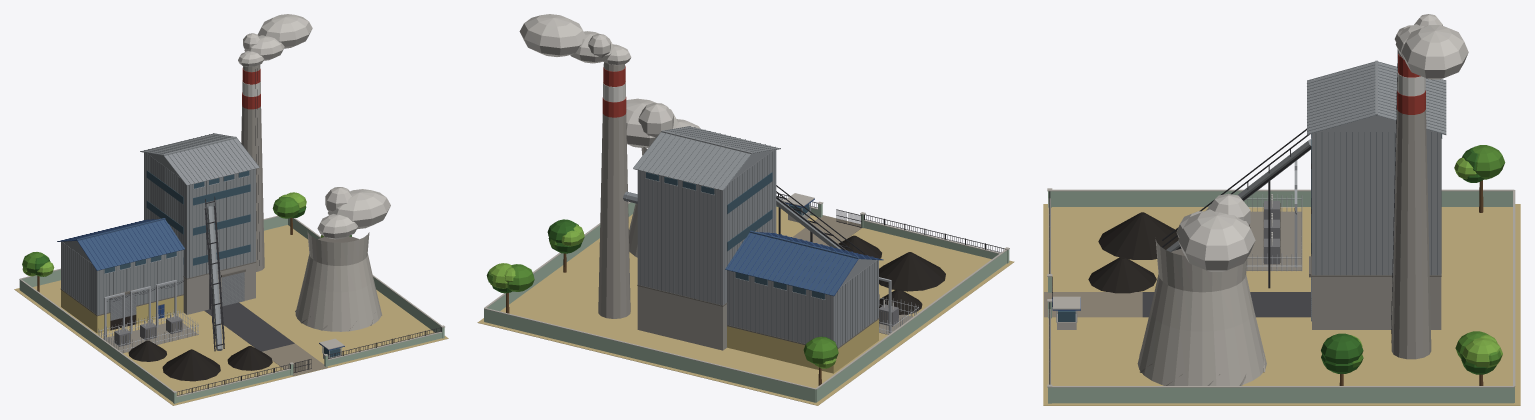
The model's file is power_plant.glb.
The picture shows the model from 3 angles, left to right: view 1: azimuth 30°, elevation 25°; view 2: azimuth 150°, elevation 25°; view 3: azimuth 270°, elevation 25°; orthographic projection. The views are drawn at different scales.
Visible parts, largest first — view 1: body, windows; view 2: body, windows; view 3: body.
Boxes of the visible parts, <box> form: body: <box>14,14,448,405</box>; windows: <box>104,170,340,357</box>; body: <box>477,14,1014,405</box>; windows: <box>646,172,824,299</box>; body: <box>1043,14,1520,405</box>.
Size of the model in its own units: 48.7 by 38.98 by 47.9.
